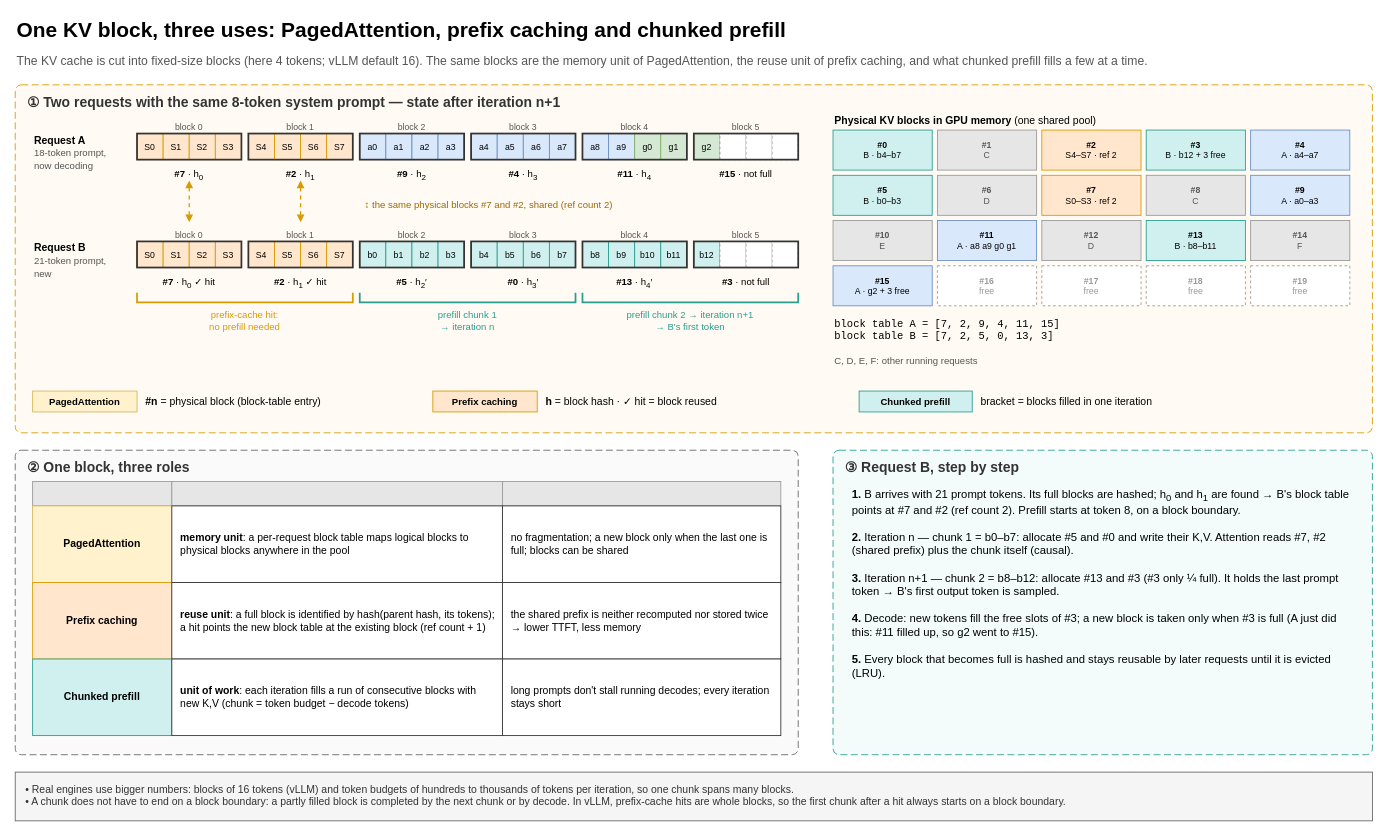
The diagram is 1388 pixels wide and 836 high, and some of its shapes have lost their labels. Each missing label, with the centre of its shape:
"Technique" belongs at (x=102, y=493).
"The block is the …" belongs at (x=336, y=493).
"What it buys" belongs at (x=641, y=493).
